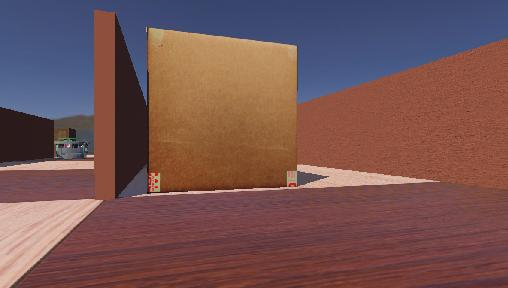CardboardBox: (134, 15, 316, 200)
